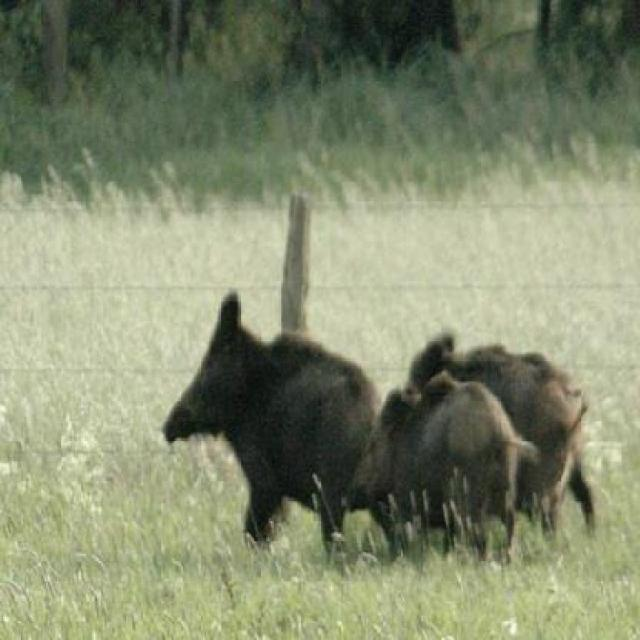Boar: (136, 276, 382, 542), (409, 320, 608, 505), (355, 373, 531, 532)
